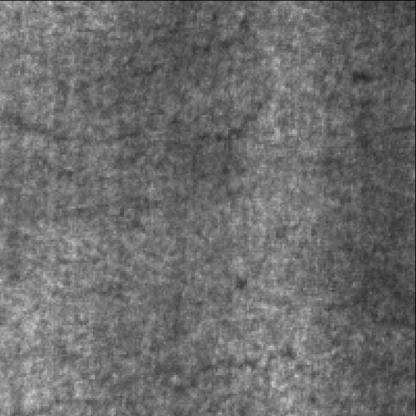crazing: (2, 15, 277, 148), (58, 281, 302, 412)
